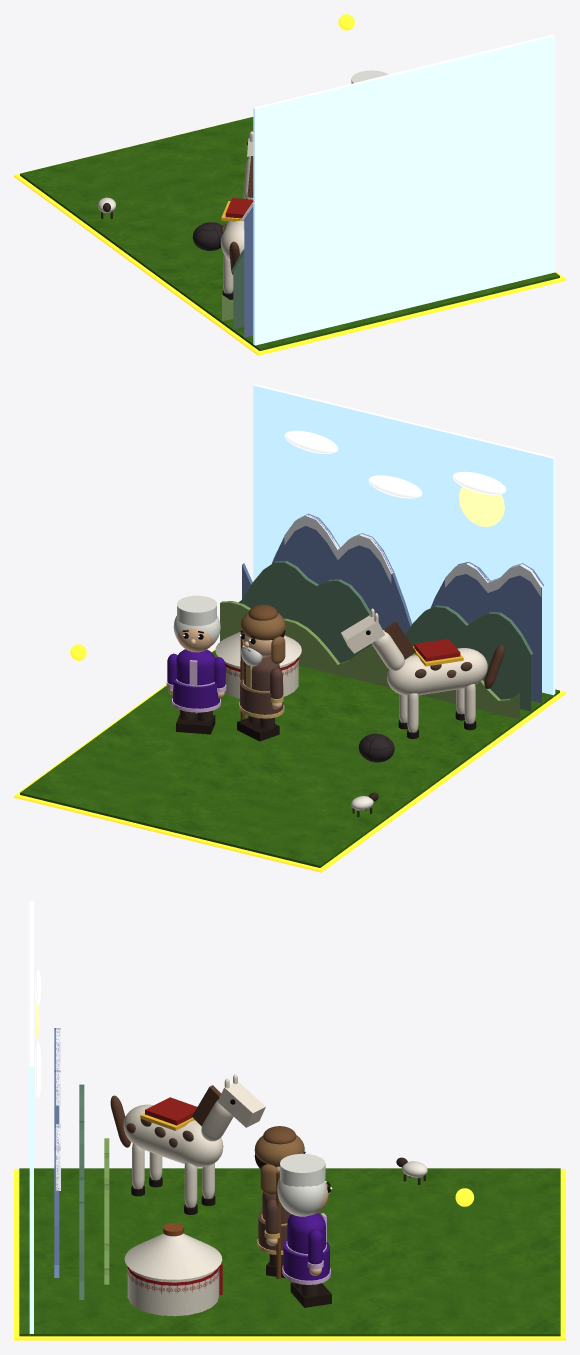
The picture shows the model from 3 angles, top to bottom: view 1: azimuth 30°, elevation 25°; view 2: azimuth 150°, elevation 25°; view 3: azimuth 270°, elevation 25°; orthographic projection. The views are drawn at different scales.
Parts seen in each view (by area): view 1: Аспан, Жер, Жиек, Алыс жота, Орта жота, obj_stone, Torso; view 2: Жер, Аспан, Орта жота, Алыс жота, Жақын төбе, Torso (×3), Жиек, Қар, Бұлт (×3), Skirt (×2), Күн, Turban (+7 smaller); view 3: Жер, Жиек, Torso (×2), Күмбез, Кереге, Аспан, Turban, Орта жота, Kimeshek, HeadMesh, Leg (×2), Алыс жота (+7 smaller).
Part boxes in pixels (<box>): Аспан: <box>253,34,555,345</box>; Жер: <box>20,117,559,350</box>; Жиек: <box>14,116,565,355</box>; Алыс жота: <box>243,204,253,337</box>; Орта жота: <box>231,249,244,329</box>; obj_stone: <box>192,222,222,250</box>; Torso: <box>220,198,253,259</box>; Жер: <box>20,650,559,867</box>; Аспан: <box>253,384,555,696</box>; Орта жота: <box>238,561,532,711</box>; Алыс жота: <box>242,513,543,703</box>; Жақын төбе: <box>220,601,519,719</box>; Torso (×3): <box>176,648,487,695</box>; Жиек: <box>14,648,565,872</box>; Қар: <box>284,514,542,596</box>; Бұлт (×3): <box>284,430,506,498</box>; Skirt (×2): <box>172,679,283,714</box>; Күн: <box>459,486,504,526</box>; Turban: <box>177,595,216,625</box>; Жер: <box>19,1168,560,1336</box>; Жиек: <box>14,1169,565,1340</box>; Torso (×2): <box>123,1104,325,1253</box>; Күмбез: <box>124,1233,222,1279</box>; Кереге: <box>127,1267,219,1316</box>; Аспан: <box>29,901,33,1333</box>; Turban: <box>280,1153,325,1186</box>; Орта жота: <box>79,1084,84,1299</box>; Kimeshek: <box>277,1177,326,1216</box>; HeadMesh: <box>217,1081,265,1127</box>; Leg (×2): <box>132,1143,197,1207</box>; Алыс жота: <box>54,1028,59,1277</box>.
Size of the model in its own units: 0.9635 by 0.7206 by 1.33.
Materials: 40 (3 with a texture image).
